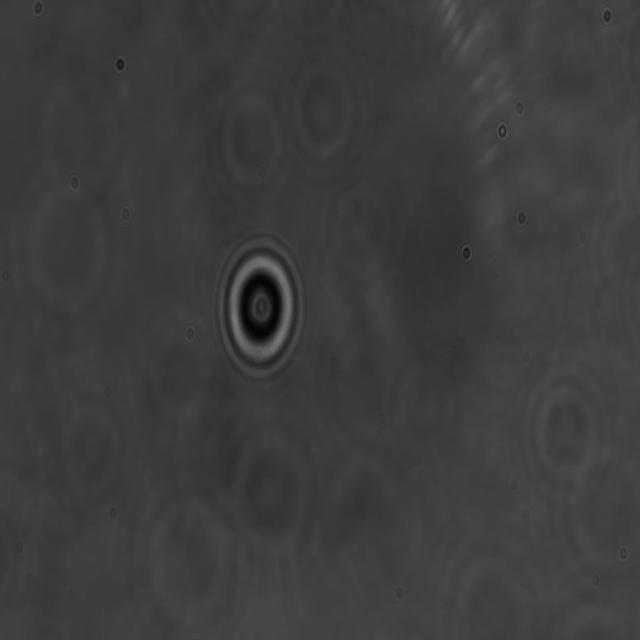LCELL: (213, 232, 308, 386)
